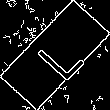L_NW: (26, 27, 84, 83)
